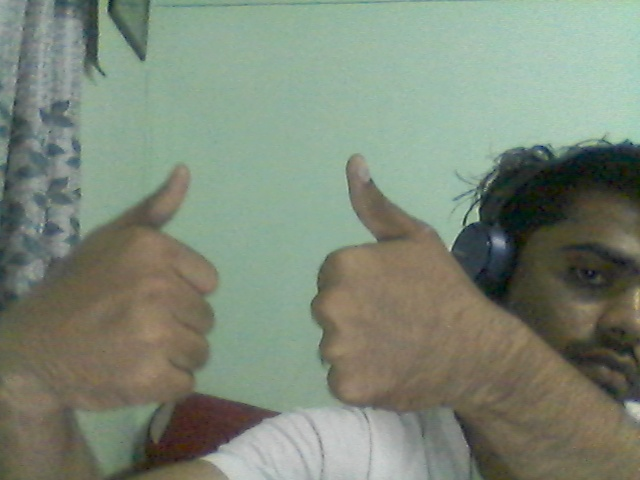Thank You: (3, 126, 542, 458)
